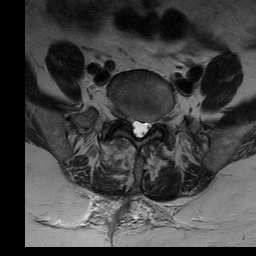CCS_stenosis: (136, 112, 143, 143)
LFS_severe_stenosis: (151, 113, 159, 131)
LLS_normal: (143, 116, 150, 137)
RFS_stenosis: (121, 108, 130, 126)
RLS_stenosis: (129, 115, 137, 137)
